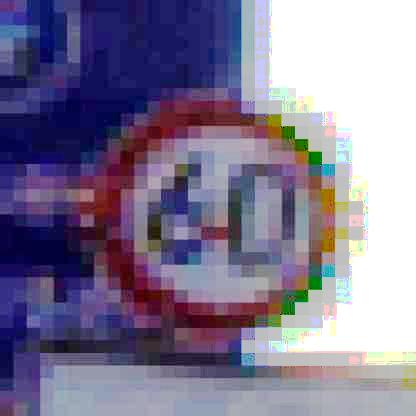Speed Limit -60-: (80, 86, 360, 342)
